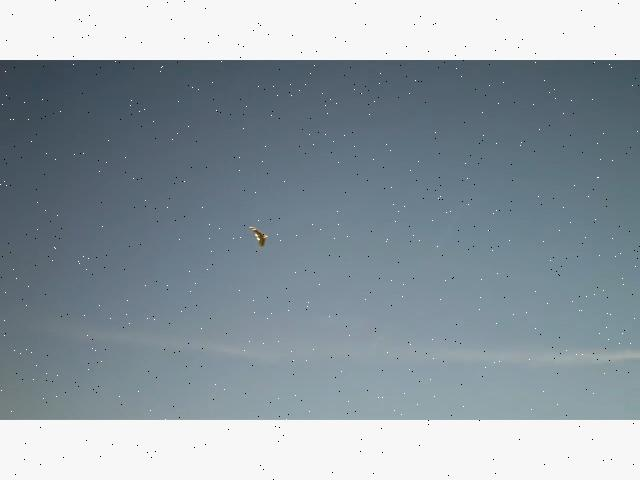Anti-Drone: (249, 226, 267, 245)
